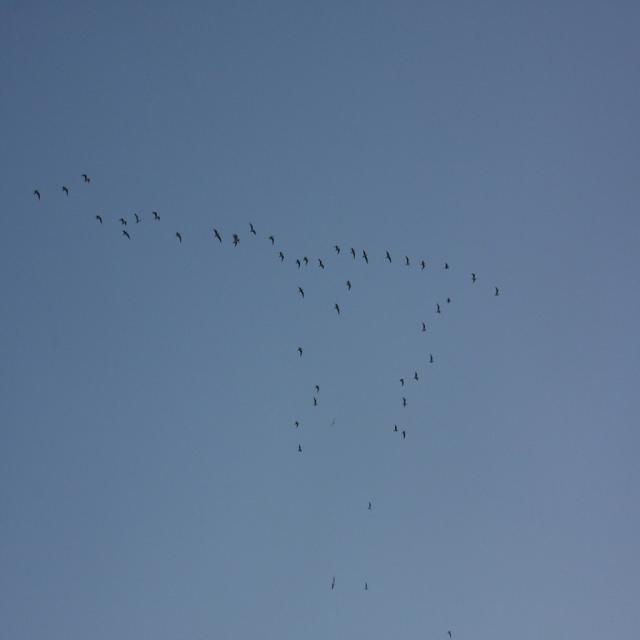bird: (212, 228, 222, 244), (232, 233, 242, 247), (362, 249, 371, 263), (82, 172, 92, 184), (247, 224, 257, 236), (152, 212, 162, 224), (419, 320, 427, 335), (333, 302, 342, 315), (173, 231, 182, 244), (348, 246, 356, 260), (32, 190, 42, 201), (94, 215, 104, 226), (297, 288, 307, 299), (61, 187, 70, 199), (384, 250, 392, 263), (295, 257, 303, 270), (316, 260, 325, 271), (344, 279, 353, 290), (133, 214, 141, 226), (494, 287, 502, 299), (402, 398, 410, 410), (412, 371, 420, 383), (402, 429, 409, 442), (122, 230, 131, 240), (276, 250, 284, 261), (302, 257, 310, 268), (297, 444, 305, 455), (393, 423, 401, 434), (436, 302, 443, 314), (312, 396, 319, 408), (419, 260, 426, 272), (329, 576, 335, 590), (120, 218, 128, 228), (334, 245, 342, 255), (268, 235, 276, 245), (329, 418, 337, 428), (298, 346, 304, 358), (366, 498, 372, 510), (405, 257, 412, 267), (444, 262, 451, 272), (445, 297, 452, 307), (314, 383, 320, 394), (428, 352, 434, 363), (400, 378, 407, 387), (446, 630, 453, 639), (472, 273, 478, 283), (363, 581, 369, 591), (292, 420, 298, 428)
